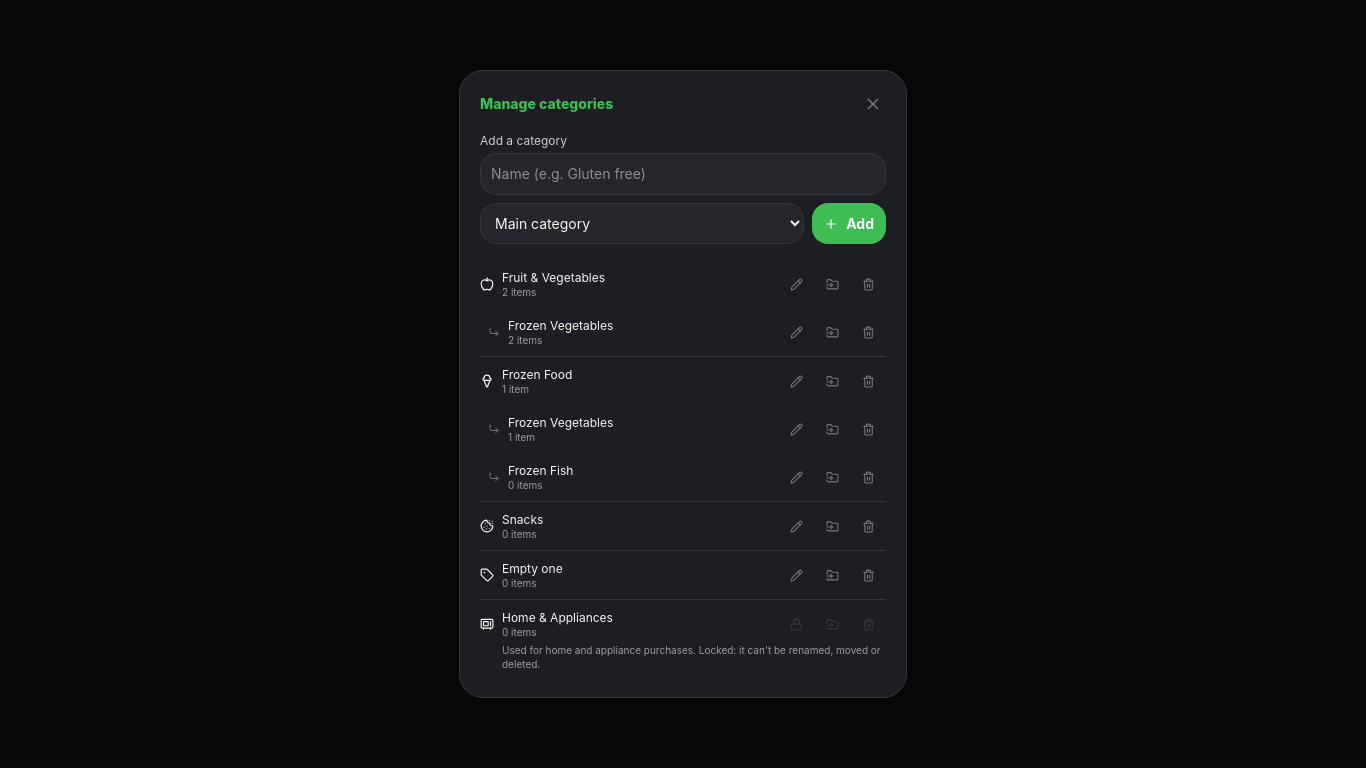
Scenario: HOME Manage categories › refuses renaming to another category's name
Click the button named "Rename Snacks" at [796, 526], box [778,508,814,544]
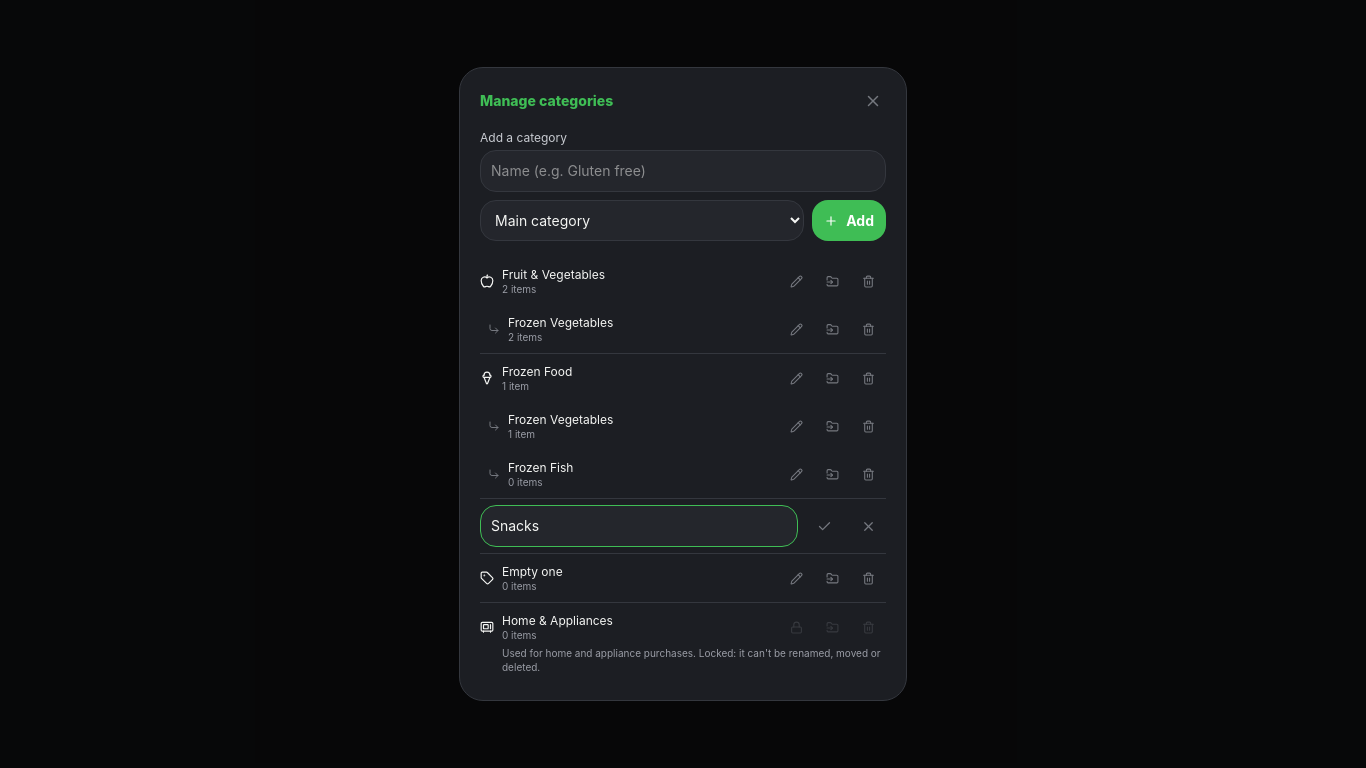
Replace the text in the field named "New name for Snacks" with "Frozen Fish" at [639, 526], box [480,505,798,547]
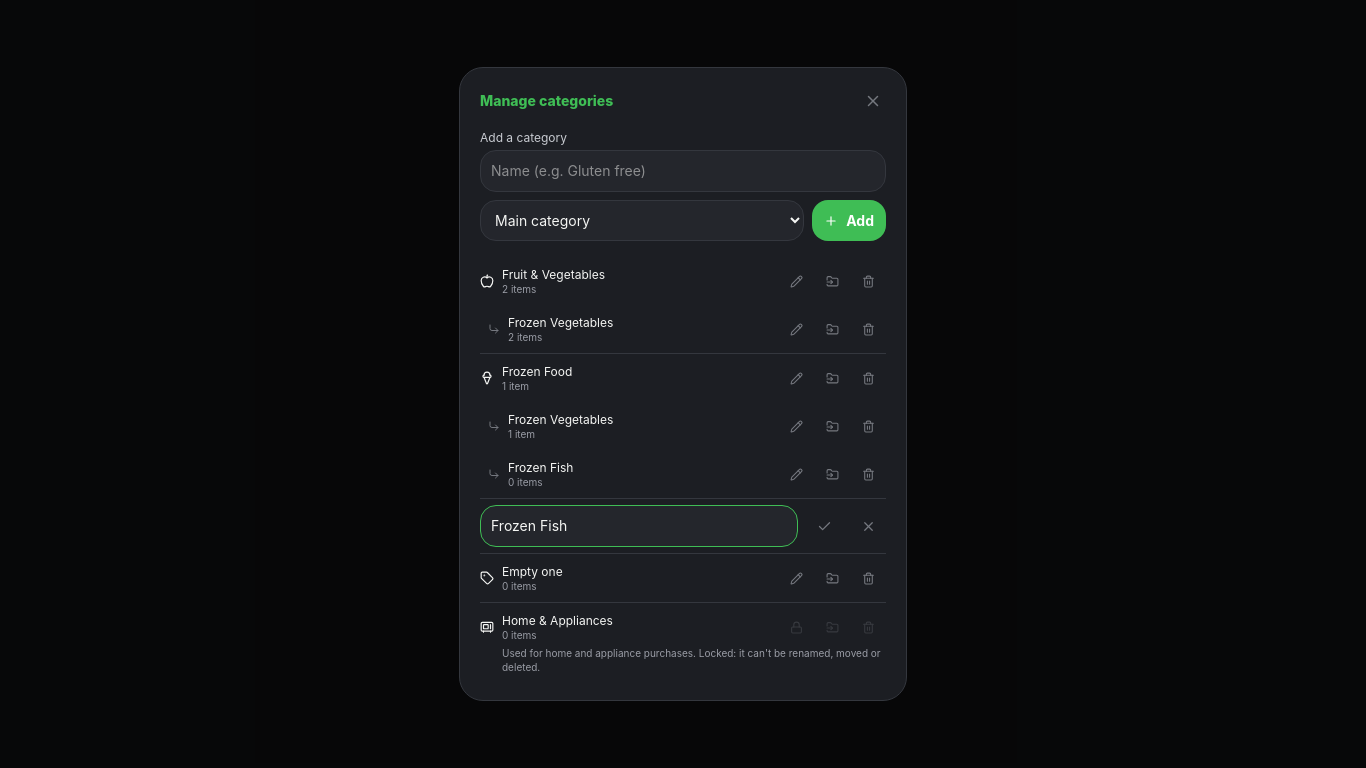
Click the button named "Save" at [824, 526], box [806,508,842,544]
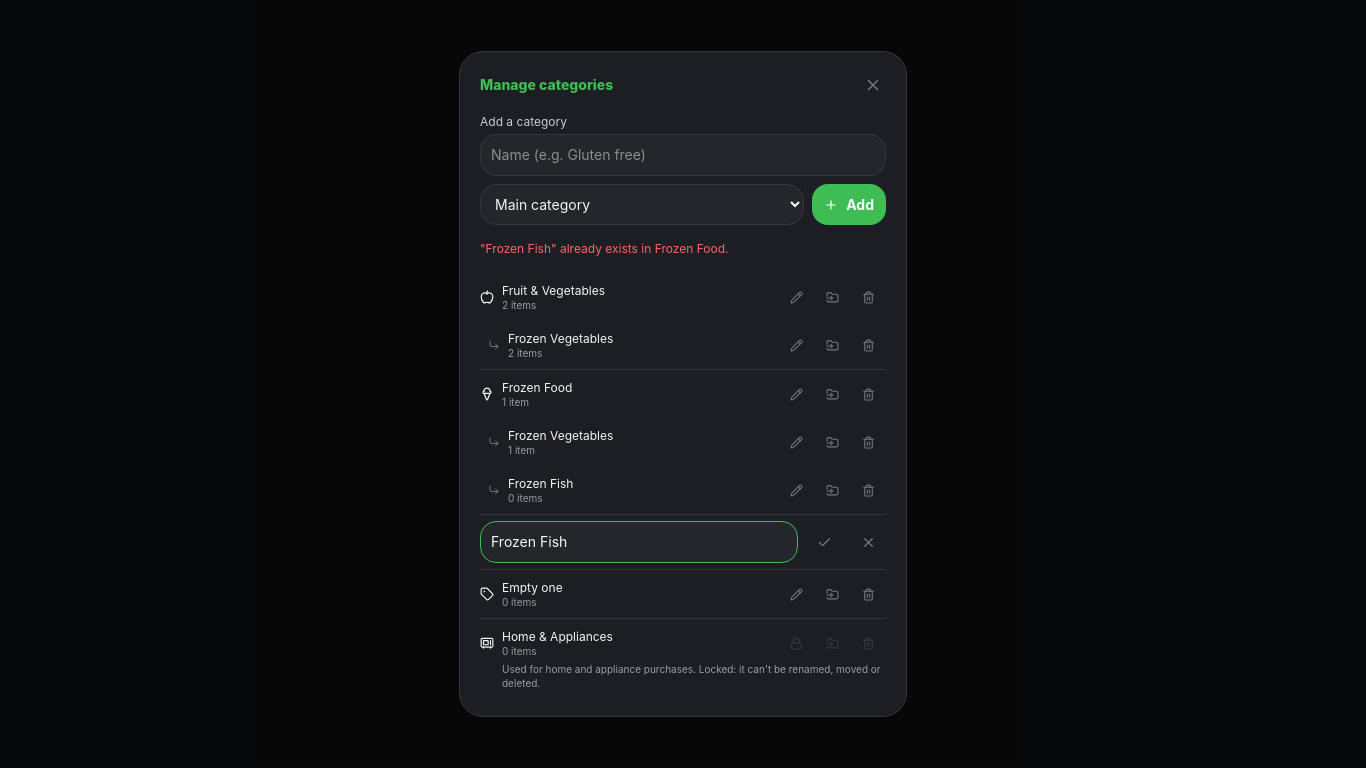
Check: the text "\"Frozen Fish\" already exists in Frozen Food." is shown, box [480,241,728,256]
